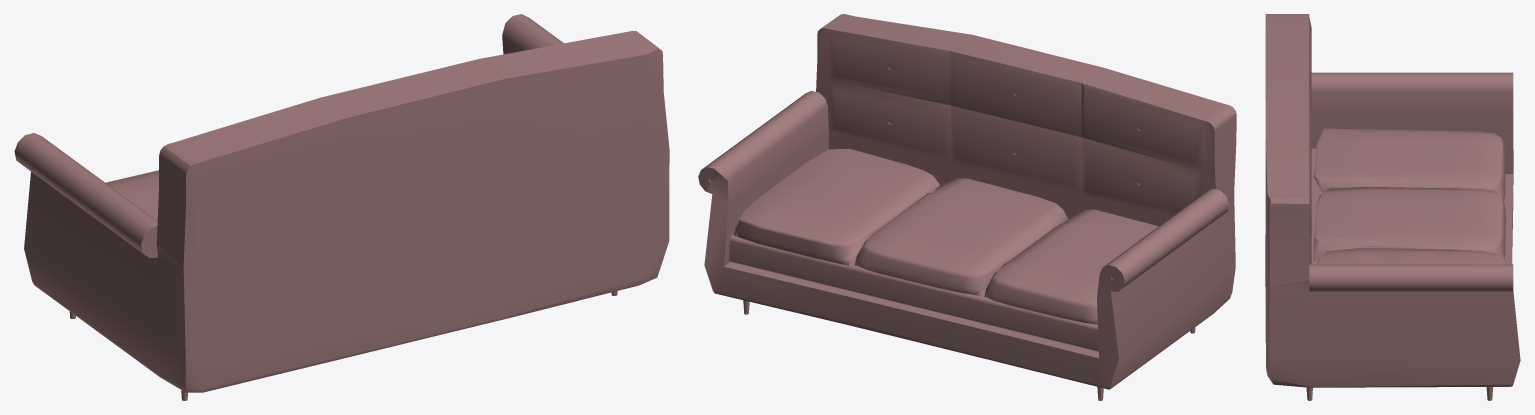
Rendered from sillon grande.fbx.
3 views of the same model, side by side, from view 1: azimuth 30°, elevation 25°; view 2: azimuth 150°, elevation 25°; view 3: azimuth 270°, elevation 25° (orthographic). The views are drawn at different scales.
Parts seen in each view (by area): view 1: pCube51; view 2: pCube51; view 3: pCube51.
Part boxes in pixels (box(x1,y1,x2,y2)): pCube51: box(14, 14, 669, 400); pCube51: box(698, 14, 1236, 400); pCube51: box(1265, 14, 1520, 400).
Size of the model in its own units: 2.6 by 1.29 by 1.38.
